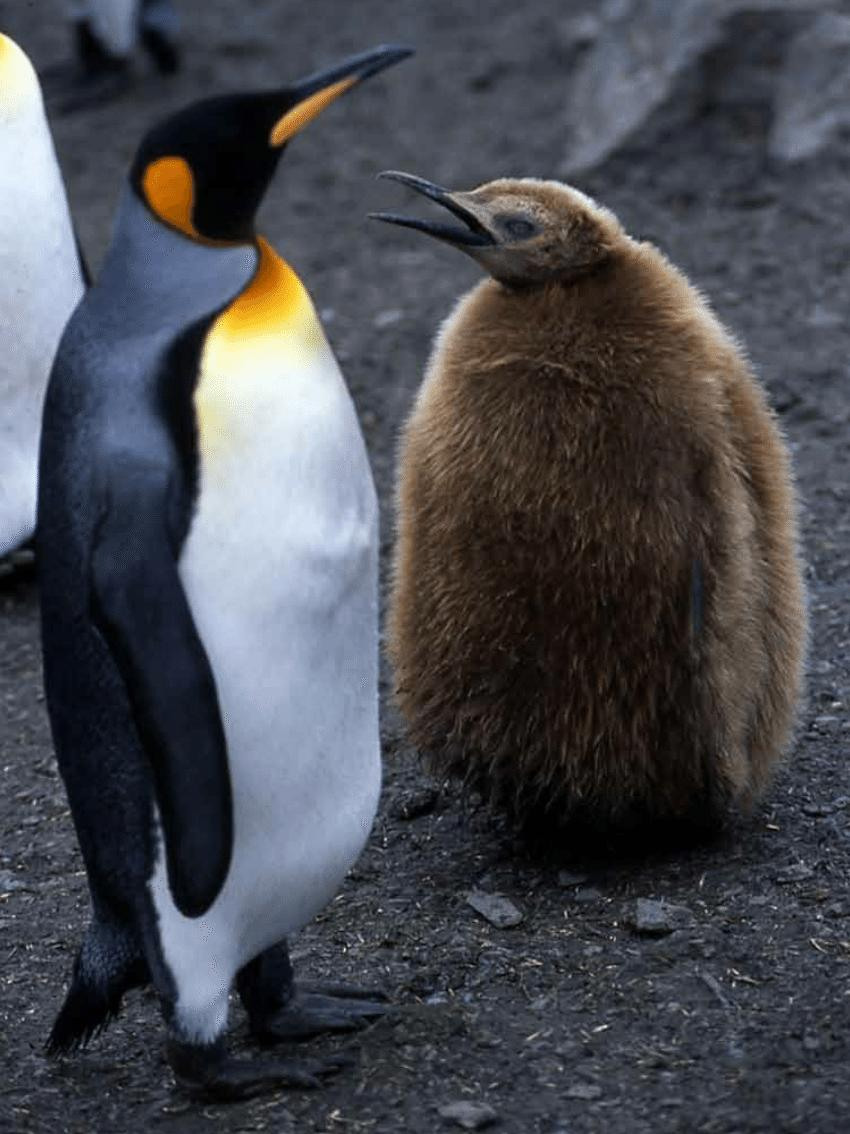king: (26, 27, 504, 1106)
